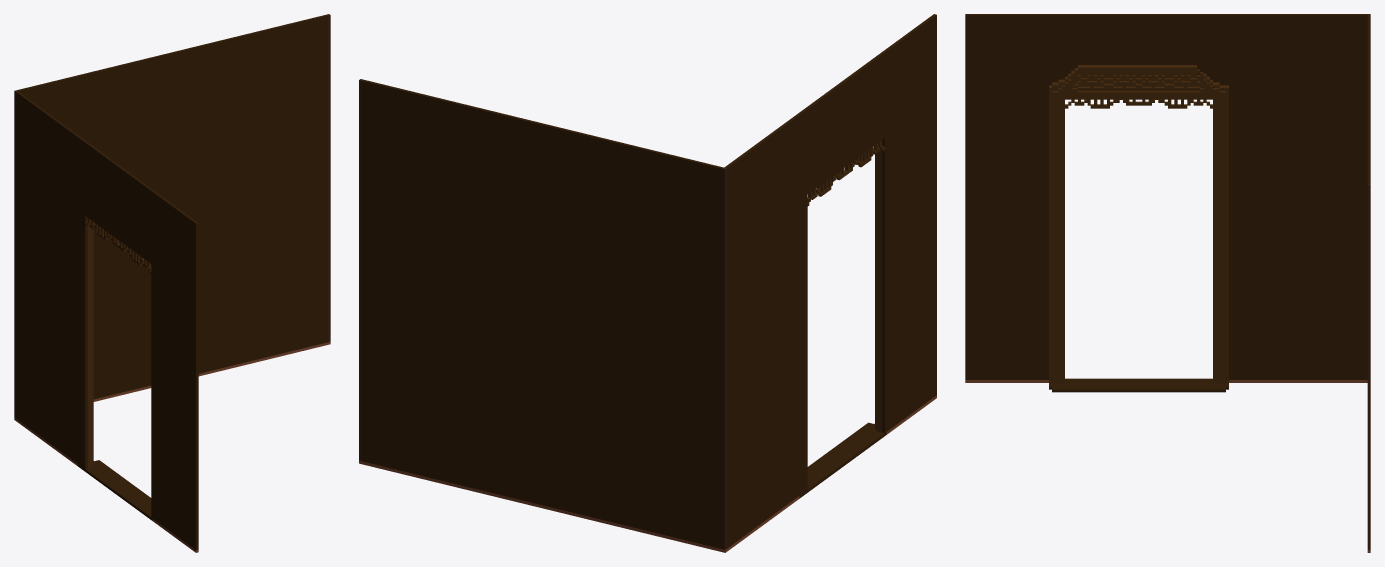
Rendered from f1wall.obj.
The picture shows the model from 3 angles, left to right: view 1: azimuth 30°, elevation 25°; view 2: azimuth 150°, elevation 25°; view 3: azimuth 270°, elevation 25°; orthographic projection. The views are drawn at different scales.
Size of the model in its own units: 126 by 126 by 126.
Materials: 1 (1 with a texture image).
